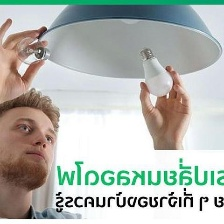light_bulb: (136, 41, 175, 100), (12, 36, 53, 68)
